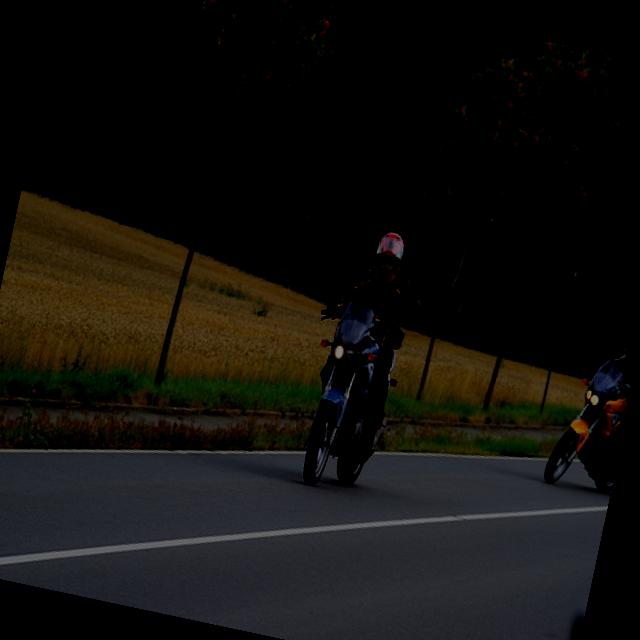Vehicle: (282, 274, 418, 499), (537, 320, 640, 496)
